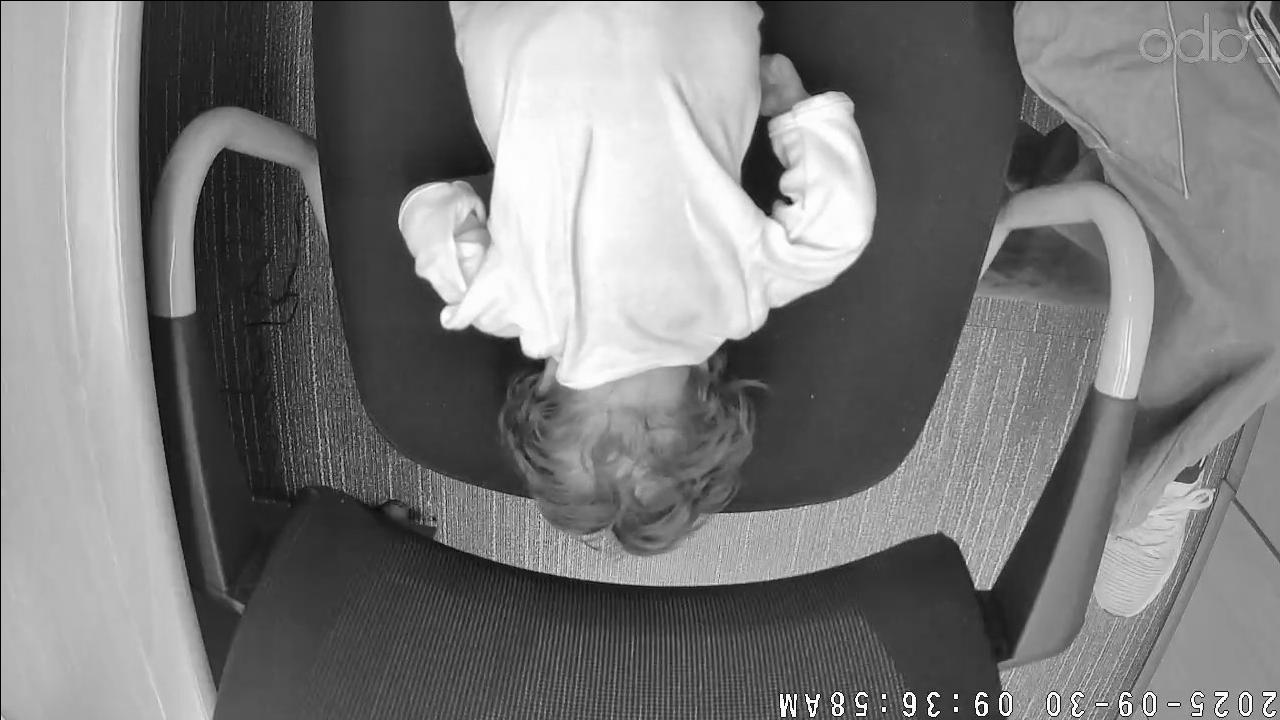hand: (757, 52, 807, 114)
